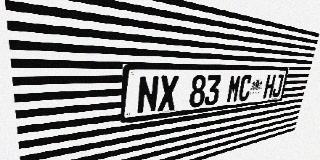3: (204, 75, 222, 106)
8: (189, 75, 208, 108)
C: (238, 74, 253, 102)
H: (263, 74, 276, 99)
J: (271, 74, 284, 98)
M: (226, 75, 242, 103)
N: (136, 76, 160, 114)
X: (157, 75, 179, 112)
